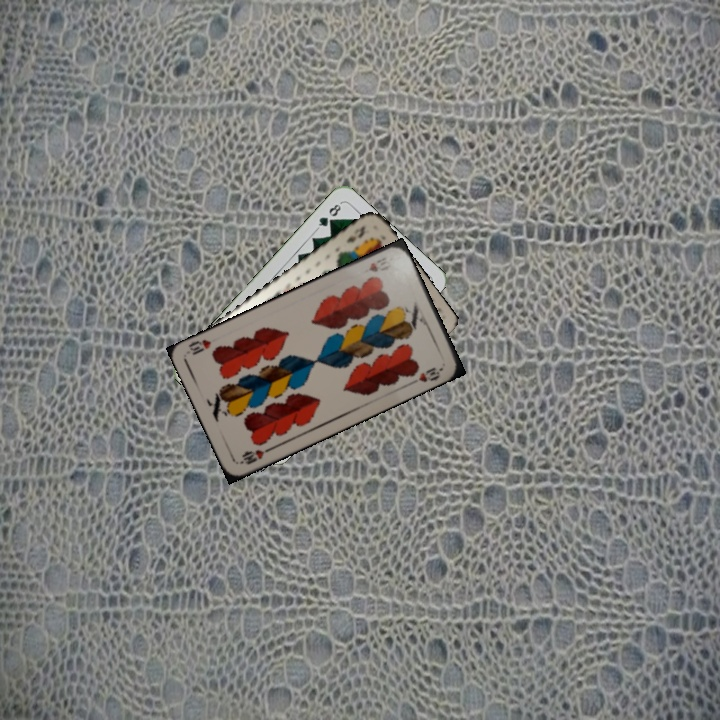EK: (342, 222, 368, 246)
G8: (313, 199, 344, 232)
H10: (236, 443, 275, 467), (365, 253, 394, 275)
